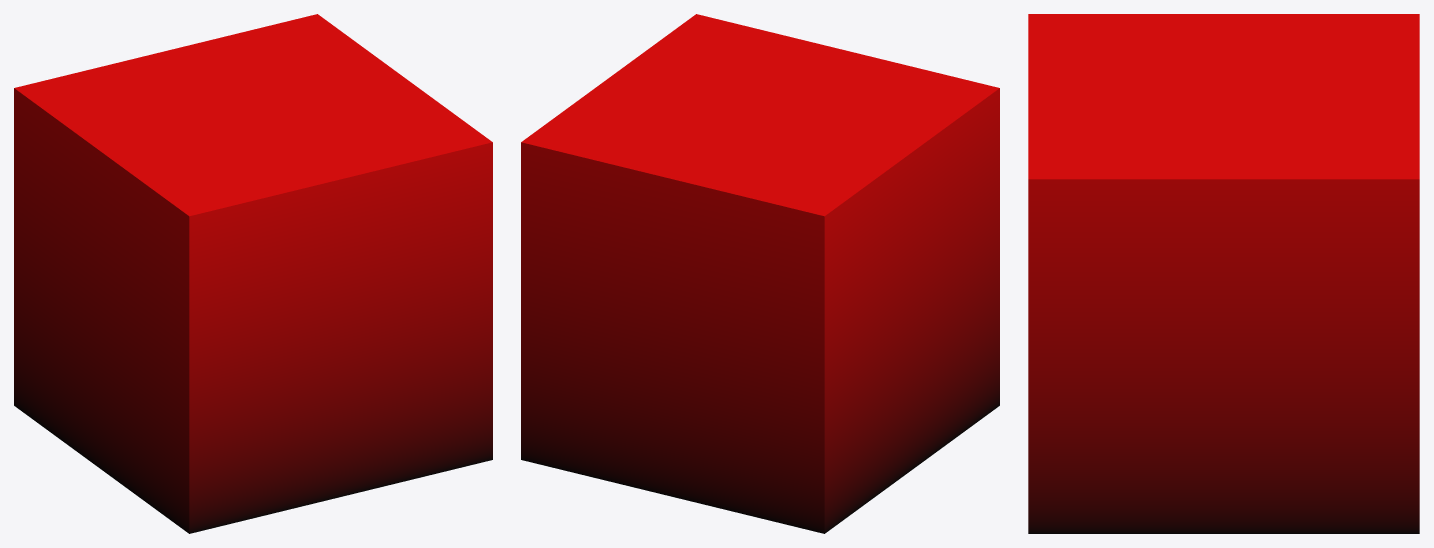
The picture shows the model from 3 angles, left to right: view 1: azimuth 30°, elevation 25°; view 2: azimuth 150°, elevation 25°; view 3: azimuth 270°, elevation 25°; orthographic projection. The views are drawn at different scales.
Visible parts, largest first — view 1: Box001; view 2: Box001; view 3: Box001.
Part boxes in pixels (left/top/right/bottom): Box001: left=14, top=14, right=492, bottom=533; Box001: left=521, top=14, right=999, bottom=533; Box001: left=1028, top=14, right=1419, bottom=533.
Bounding box in the file's own units: 100 × 100 × 100.
